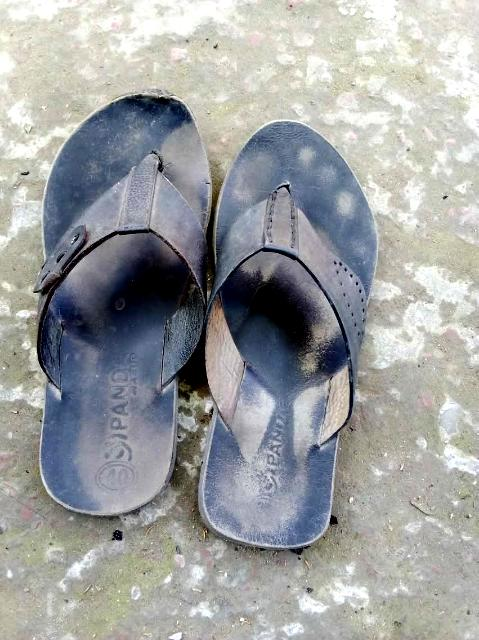sandal: (0, 85, 230, 540), (182, 115, 379, 567)
